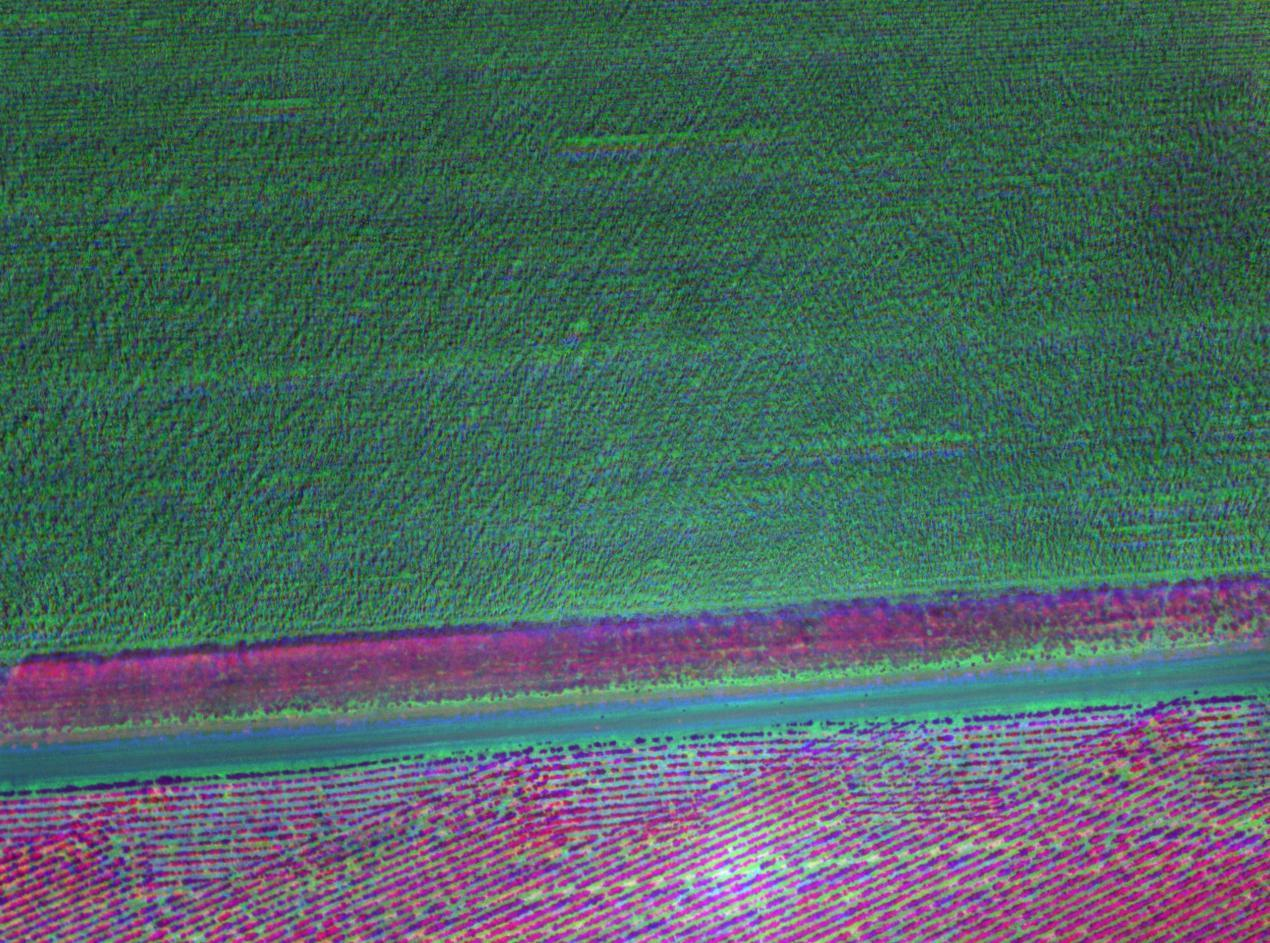dc: (530, 892, 536, 899), (1239, 822, 1245, 828), (1122, 769, 1127, 776), (749, 866, 754, 873), (1150, 818, 1155, 824), (963, 844, 968, 850), (515, 856, 521, 860), (499, 805, 503, 810), (819, 822, 823, 826)
